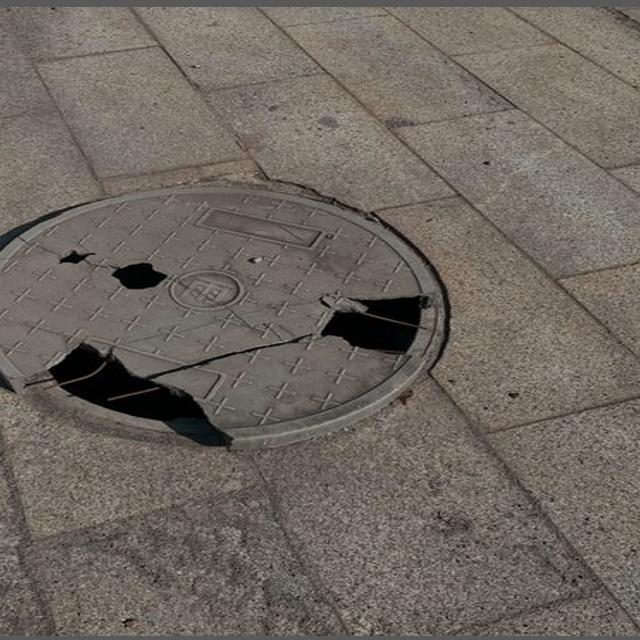broke: (0, 160, 470, 456)
